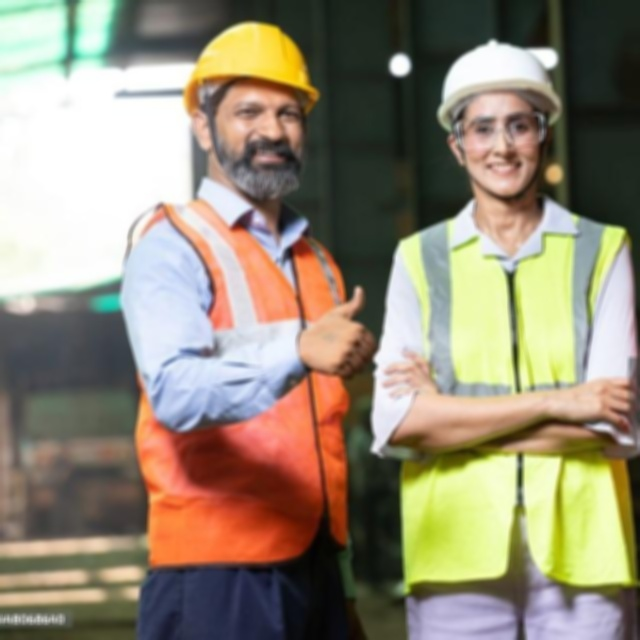Con_Casco: (184, 21, 320, 198), (439, 37, 561, 199)
Con_Chaleco: (395, 203, 637, 594), (123, 200, 365, 569)
